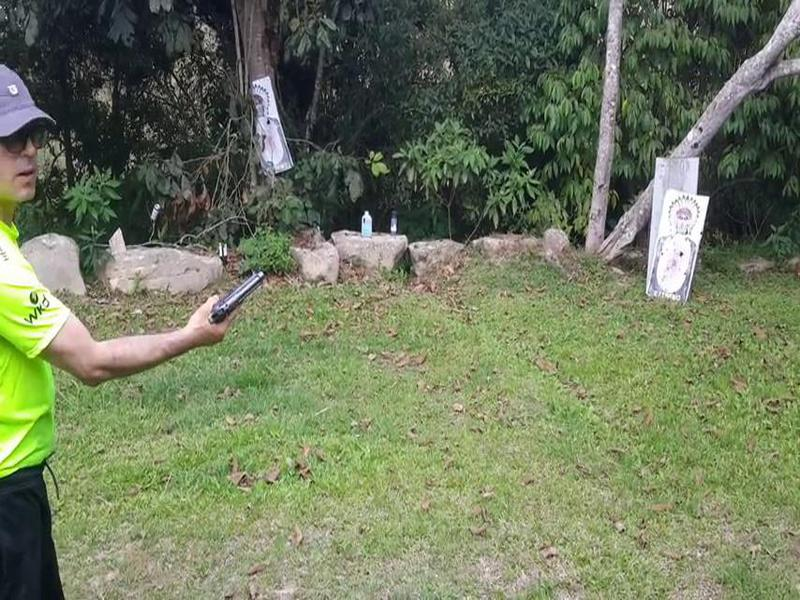Pistola: (207, 266, 278, 334)
